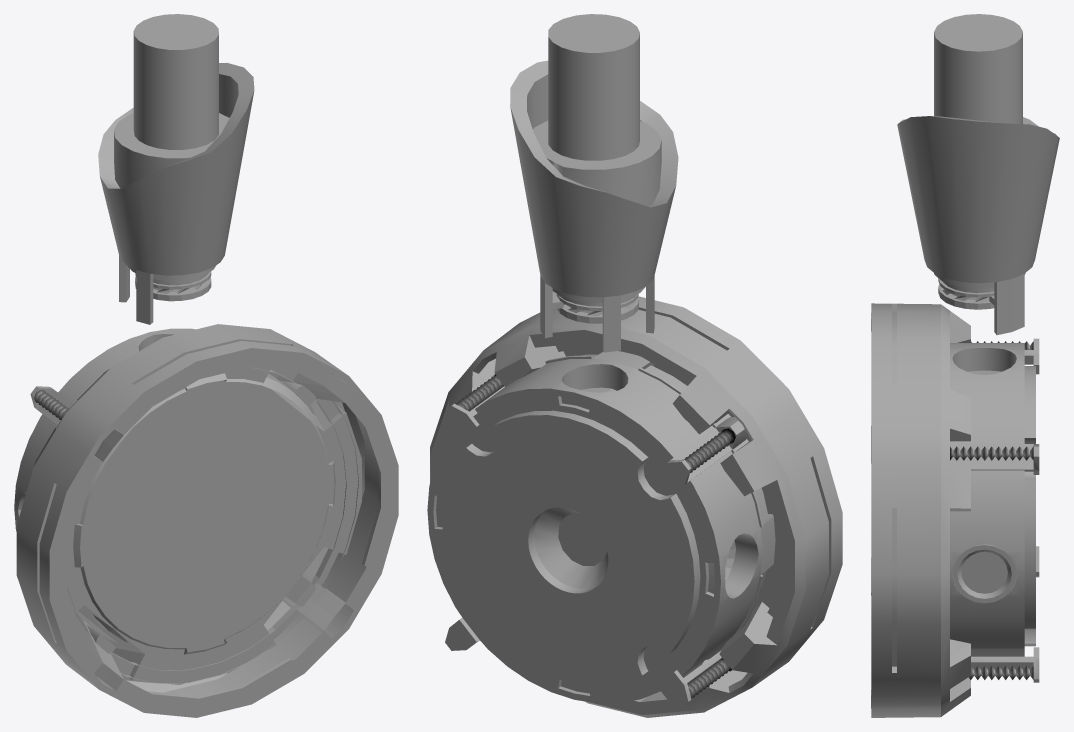
Rendered from mesh_Battery.fbx.
3 renders of one model, left to right at view 1: azimuth 30°, elevation 25°; view 2: azimuth 150°, elevation 25°; view 3: azimuth 270°, elevation 25°, orthographic. The views are drawn at different scales.
Visible parts, largest first — view 1: polySurface112, pCylinder67, mod_Main_Wheel, mod_ring, polySurface113 (×2), pCylinder68, Loader1_pCube122; view 2: mod_Main_Wheel, pCylinder67, polySurface112, Loader1_pCube122, polySurface113, group34_pCube122, pCylinder68, pCube122, group31_pCube122, pCylinder73; view 3: polySurface112, pCylinder67, mod_Main_Wheel, polySurface113 (×2), group31_pCube122, pCube122, pCylinder68, pCylinder73, Loader1_pCube122.
Boxes of the visible parts, x1=… form: polySurface112: x1=16, y1=324, x2=398, y2=717; pCylinder67: x1=98, y1=14, x2=254, y2=324; mod_Main_Wheel: x1=14, y1=328, x2=335, y2=654; mod_ring: x1=67, y1=367, x2=358, y2=683; polySurface113 (×2): x1=56, y1=399, x2=358, y2=641; pCylinder68: x1=135, y1=271, x2=211, y2=301; Loader1_pCube122: x1=30, y1=386, x2=73, y2=424; mod_Main_Wheel: x1=427, y1=351, x2=775, y2=703; pCylinder67: x1=510, y1=14, x2=678, y2=352; polySurface112: x1=430, y1=296, x2=842, y2=717; Loader1_pCube122: x1=657, y1=417, x2=747, y2=492; polySurface113: x1=728, y1=374, x2=799, y2=440; group34_pCube122: x1=657, y1=651, x2=731, y2=706; pCylinder68: x1=556, y1=294, x2=638, y2=323; pCube122: x1=445, y1=374, x2=504, y2=440; group31_pCube122: x1=445, y1=617, x2=479, y2=650; pCylinder73: x1=455, y1=374, x2=503, y2=411; polySurface112: x1=871, y1=303, x2=970, y2=717; pCylinder67: x1=897, y1=14, x2=1059, y2=335; mod_Main_Wheel: x1=950, y1=343, x2=1035, y2=656; polySurface113 (×2): x1=871, y1=425, x2=949, y2=708; group31_pCube122: x1=968, y1=647, x2=1039, y2=682; pCube122: x1=950, y1=444, x2=1039, y2=474; pCylinder68: x1=938, y1=278, x2=994, y2=309; pCylinder73: x1=950, y1=446, x2=1033, y2=460; Loader1_pCube122: x1=971, y1=338, x2=1039, y2=374.
Size of the model in its own units: 161 by 282 by 72.52.
Materials: 4 (1 with a texture image).
